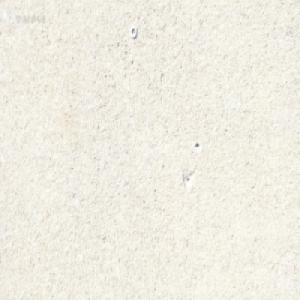Washer: (130, 24, 138, 37)
